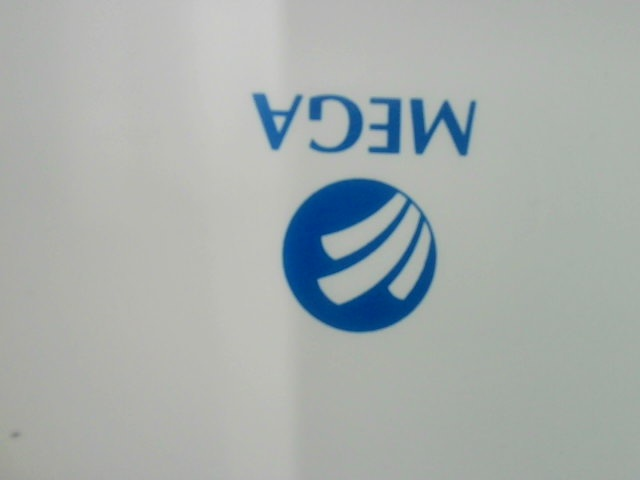AM_ZTEMEGA: (234, 79, 525, 342)
